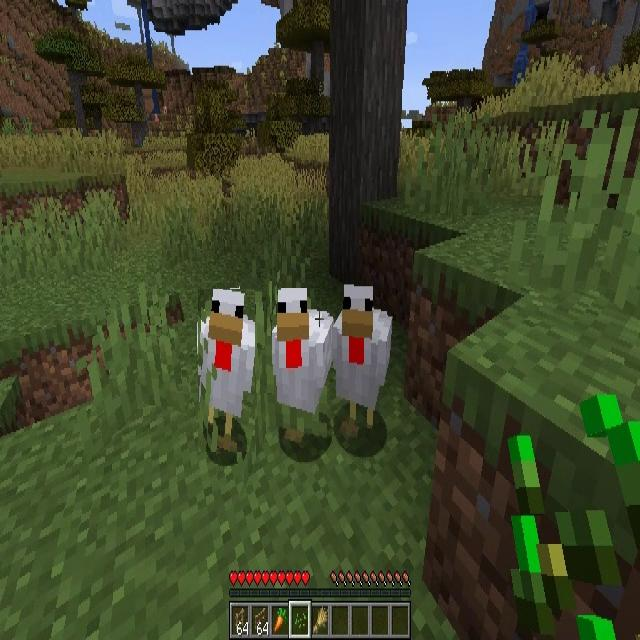duck: (334, 284, 394, 441), (272, 289, 331, 448), (198, 289, 255, 452)
